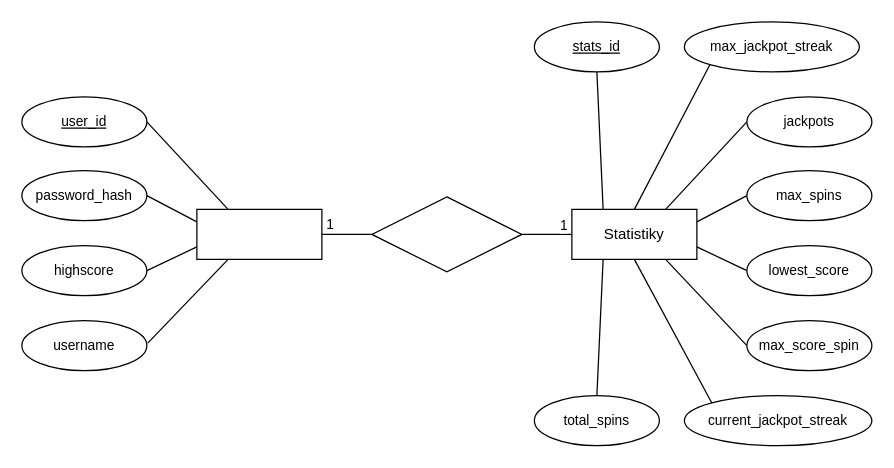
This 894x468 diagram has some shape labels left out. Each missing label, with the box of its shape:
Má: (371, 196, 522, 272)
Uživatel: (196, 208, 322, 259)
